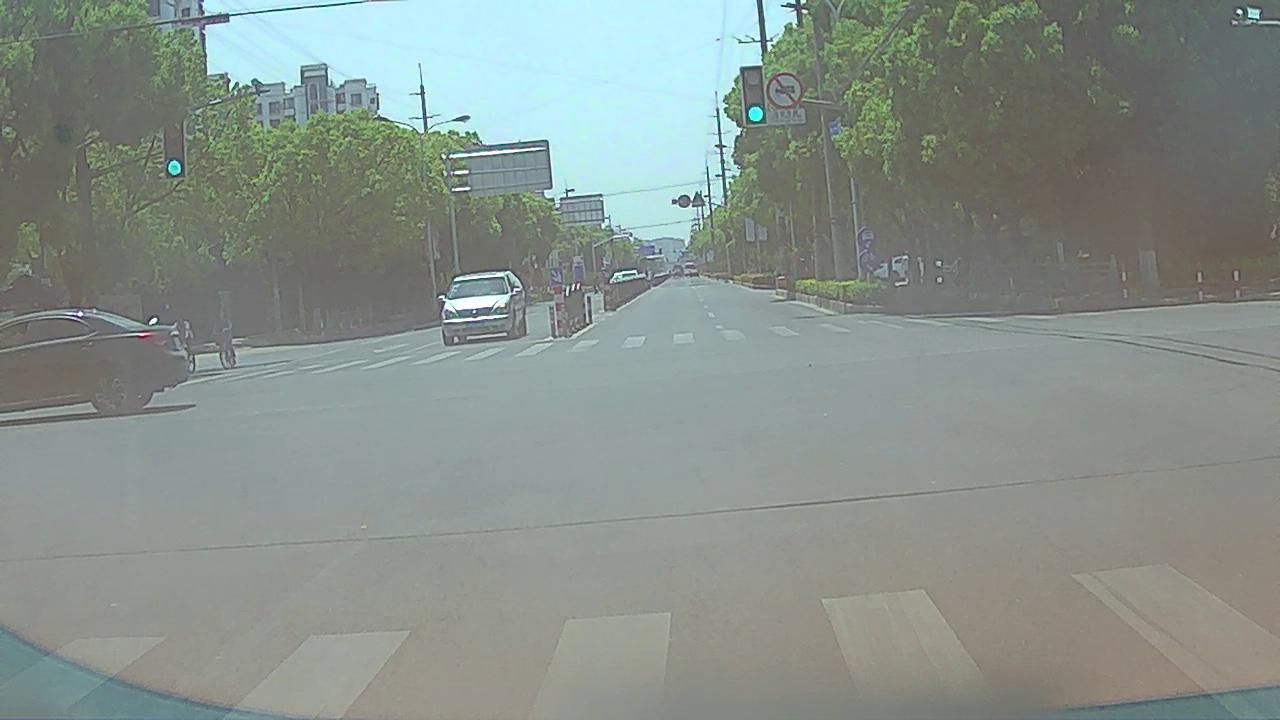traffic_light: (743, 67, 765, 125), (165, 123, 185, 178)
